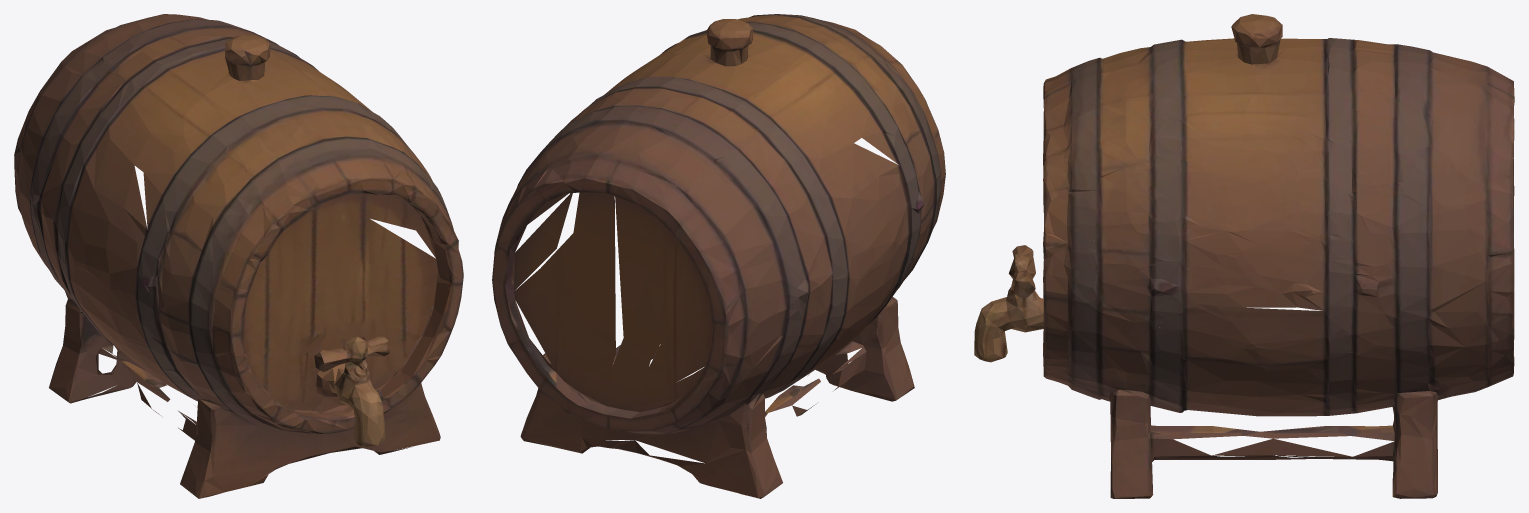
Rendered from wine_barrel_tap.glb.
3 renders of one model, left to right at view 1: azimuth 30°, elevation 25°; view 2: azimuth 150°, elevation 25°; view 3: azimuth 270°, elevation 25°, orthographic. The views are drawn at different scales.
Visible parts, largest first — view 1: geometry_0; view 2: geometry_0; view 3: geometry_0.
Part boxes in pixels (box(x1,y1,x2,y2)): geometry_0: box(14, 14, 463, 498); geometry_0: box(492, 14, 945, 498); geometry_0: box(974, 14, 1514, 498).
Bounding box in the file's own units: 0.7038 × 0.8446 × 1.
Materials: 1 (1 with a texture image).
